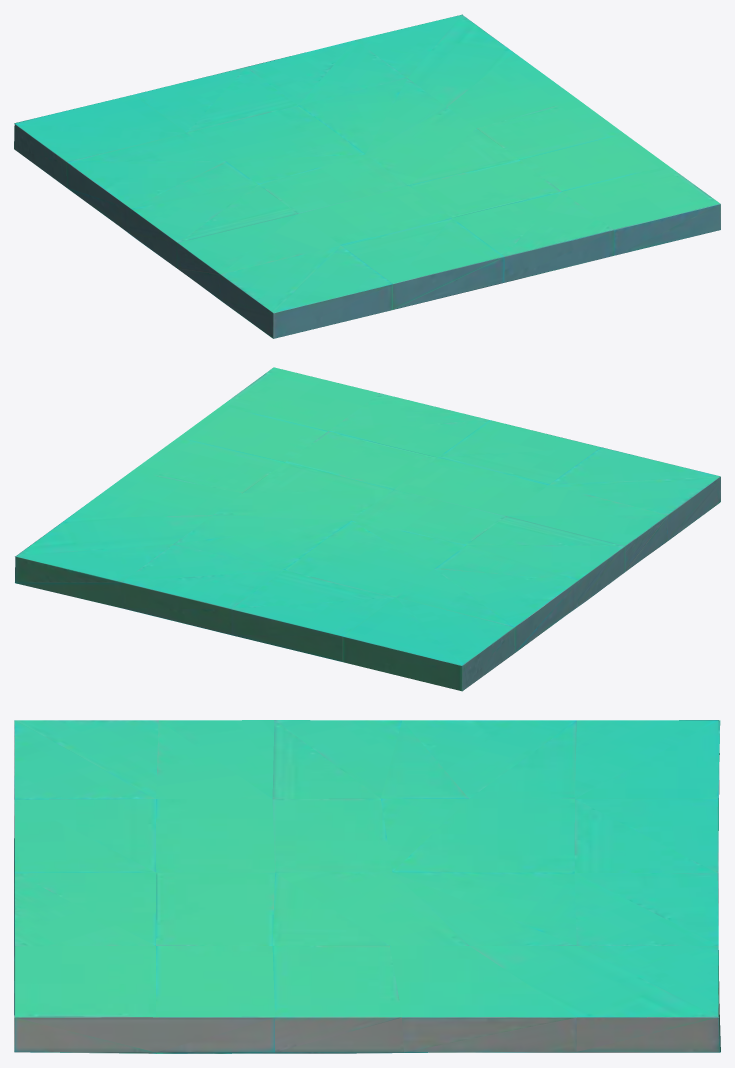
File: sea.glb
3 renders of one model, top to bottom at view 1: azimuth 30°, elevation 25°; view 2: azimuth 150°, elevation 25°; view 3: azimuth 270°, elevation 25°, orthographic. The views are drawn at different scales.
Bounding box in the file's own units: 0.9462 × 0.0547 × 0.9478.
1 material, 1 textured.
